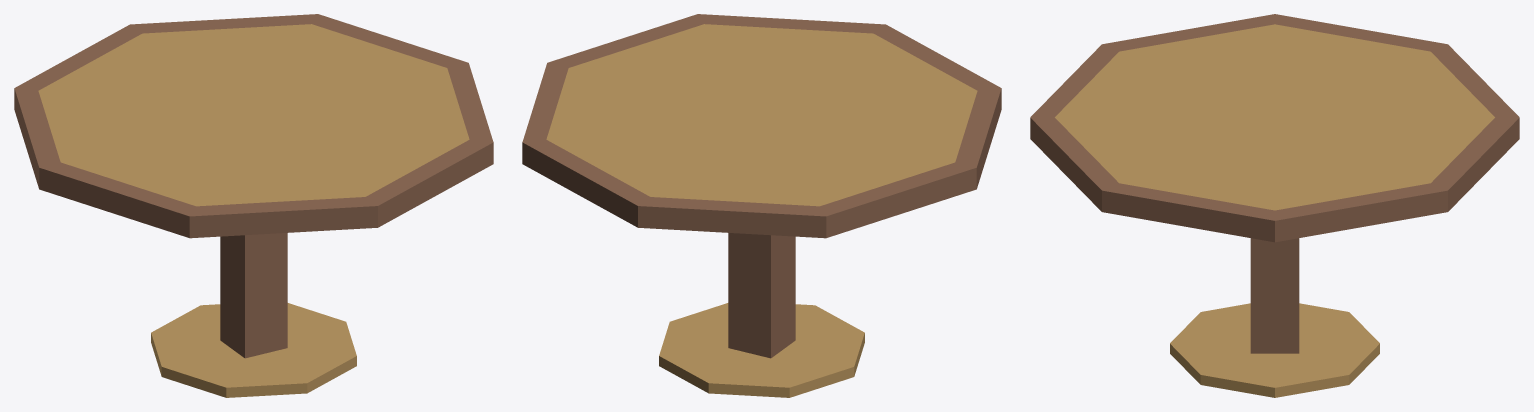
The model's file is Table4.fbx.
3 renders of one model, left to right at view 1: azimuth 30°, elevation 25°; view 2: azimuth 150°, elevation 25°; view 3: azimuth 270°, elevation 25°, orthographic.
Parts seen in each view (by area): view 1: Cylinder; view 2: Cylinder; view 3: Cylinder.
Boxes of the visible parts, x1,y1,x2,y2 form: Cylinder: [14, 14, 493, 397]; Cylinder: [522, 14, 1001, 397]; Cylinder: [1030, 14, 1519, 397].
Size of the model in its own units: 2.19 by 1.16 by 2.19.
